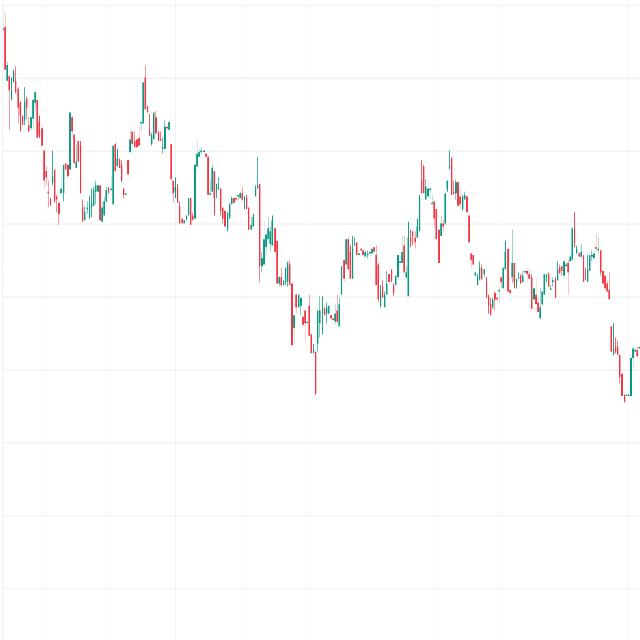Rounding-Bottom: (269, 228, 353, 406)
